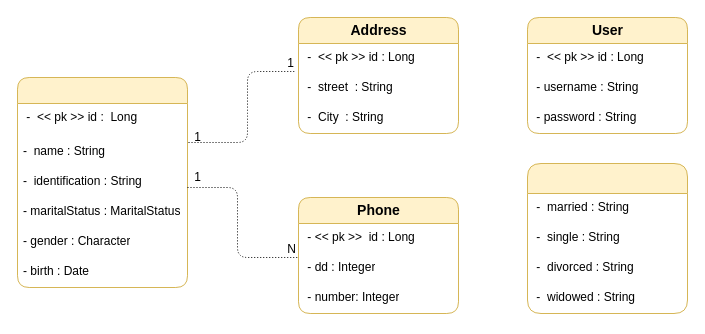
Some shapes in this 705 by 334 pixel diagram are drawn without their labels. The box of each missing label's shape, as (x1, y1, x2, y2) in pixels:
<< enum >> MaritalStatus: (526, 162, 688, 314)
Customer: (16, 76, 188, 288)
